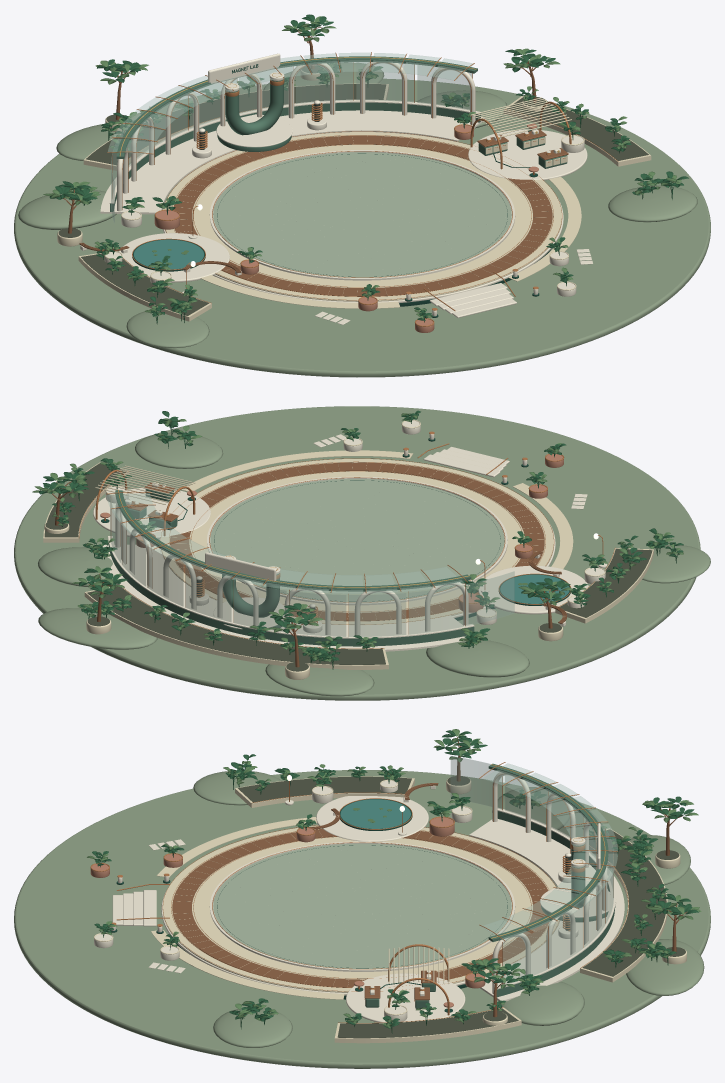
Rendered from magnet-conservatory.glb.
3 views of the same model, one above another, from view 1: azimuth 30°, elevation 25°; view 2: azimuth 150°, elevation 25°; view 3: azimuth 270°, elevation 25° (orthographic).
Visible parts, largest first — view 1: Landscape__Ground.001__01, FloorTile__SageFloor.001__01, Observatory__Porcelain.001__01, Terrace__Ivory.001__01, GalleryDetail__Glass.001__01, Terrace__Walnut.001__01, PlantedBorders__Soil.001__01, Observatory__Glass.001__01, Observatory__SageEnamel.001__01, Workshop__Porcelain.001__01, Terrace__Porcelain.001__01, Terrace__Copper.001__01 (+21 smaller); view 2: Landscape__Ground.001__01, FloorTile__SageFloor.001__01, GalleryDetail__Glass.001__01, Observatory__Porcelain.001__01, Terrace__Ivory.001__01, PlantedBorders__Soil.001__01, Terrace__Walnut.001__01, Observatory__Glass.001__01, Observatory__SageEnamel.001__01, PlantedBorders__Ivory.001__01, Workshop__Porcelain.001__01, GardenPaths__Ivory.001__01 (+26 smaller); view 3: Landscape__Ground.001__01, FloorTile__SageFloor.001__01, Terrace__Ivory.001__01, Observatory__Porcelain.001__01, GalleryDetail__Glass.001__01, PlantedBorders__Soil.001__01, Terrace__Walnut.001__01, Observatory__Glass.001__01, Workshop__Porcelain.001__01, BotanicalCourt__Porcelain.001__01, PlantedBorders__Ivory.001__01, Observatory__SageEnamel.001__01 (+23 smaller).
Boxes of the visible parts, left/top/right/bottom form: Landscape__Ground.001__01: left=14, top=62, right=710, bottom=377; FloorTile__SageFloor.001__01: left=213, top=152, right=511, bottom=277; Observatory__Porcelain.001__01: left=100, top=53, right=485, bottom=214; Terrace__Ivory.001__01: left=163, top=132, right=562, bottom=301; GalleryDetail__Glass.001__01: left=111, top=62, right=471, bottom=223; Terrace__Walnut.001__01: left=173, top=135, right=552, bottom=296; PlantedBorders__Soil.001__01: left=81, top=84, right=648, bottom=315; Observatory__Glass.001__01: left=108, top=53, right=473, bottom=153; Observatory__SageEnamel.001__01: left=116, top=56, right=477, bottom=159; Workshop__Porcelain.001__01: left=468, top=129, right=587, bottom=180; Terrace__Porcelain.001__01: left=162, top=150, right=563, bottom=303; Terrace__Copper.001__01: left=163, top=131, right=562, bottom=300; Landscape__Ground.001__01: left=14, top=406, right=710, bottom=700; FloorTile__SageFloor.001__01: left=210, top=479, right=504, bottom=602; GalleryDetail__Glass.001__01: left=110, top=499, right=514, bottom=636; Observatory__Porcelain.001__01: left=102, top=501, right=468, bottom=651; Terrace__Ivory.001__01: left=161, top=459, right=554, bottom=625; PlantedBorders__Soil.001__01: left=44, top=463, right=652, bottom=664; Terrace__Walnut.001__01: left=170, top=462, right=544, bottom=620; Observatory__Glass.001__01: left=106, top=493, right=464, bottom=593; Observatory__SageEnamel.001__01: left=115, top=490, right=471, bottom=632; PlantedBorders__Ivory.001__01: left=43, top=462, right=653, bottom=669; Workshop__Porcelain.001__01: left=93, top=482, right=210, bottom=538; GardenPaths__Ivory.001__01: left=182, top=450, right=573, bottom=568; Landscape__Ground.001__01: left=14, top=770, right=710, bottom=1068; FloorTile__SageFloor.001__01: left=213, top=843, right=511, bottom=968; Terrace__Ivory.001__01: left=162, top=825, right=559, bottom=992; Observatory__Porcelain.001__01: left=469, top=772, right=624, bottom=1001; GalleryDetail__Glass.001__01: left=451, top=756, right=613, bottom=984; PlantedBorders__Soil.001__01: left=238, top=776, right=666, bottom=1038; Terrace__Walnut.001__01: left=172, top=829, right=549, bottom=987; Observatory__Glass.001__01: left=481, top=763, right=617, bottom=941; Workshop__Porcelain.001__01: left=346, top=970, right=465, bottom=1022; BotanicalCourt__Porcelain.001__01: left=285, top=780, right=472, bottom=841; PlantedBorders__Ivory.001__01: left=235, top=776, right=667, bottom=1043; Observatory__SageEnamel.001__01: left=488, top=763, right=615, bottom=941.
Bounding box in the file's own units: 58.8 × 7.66 × 58.8.
